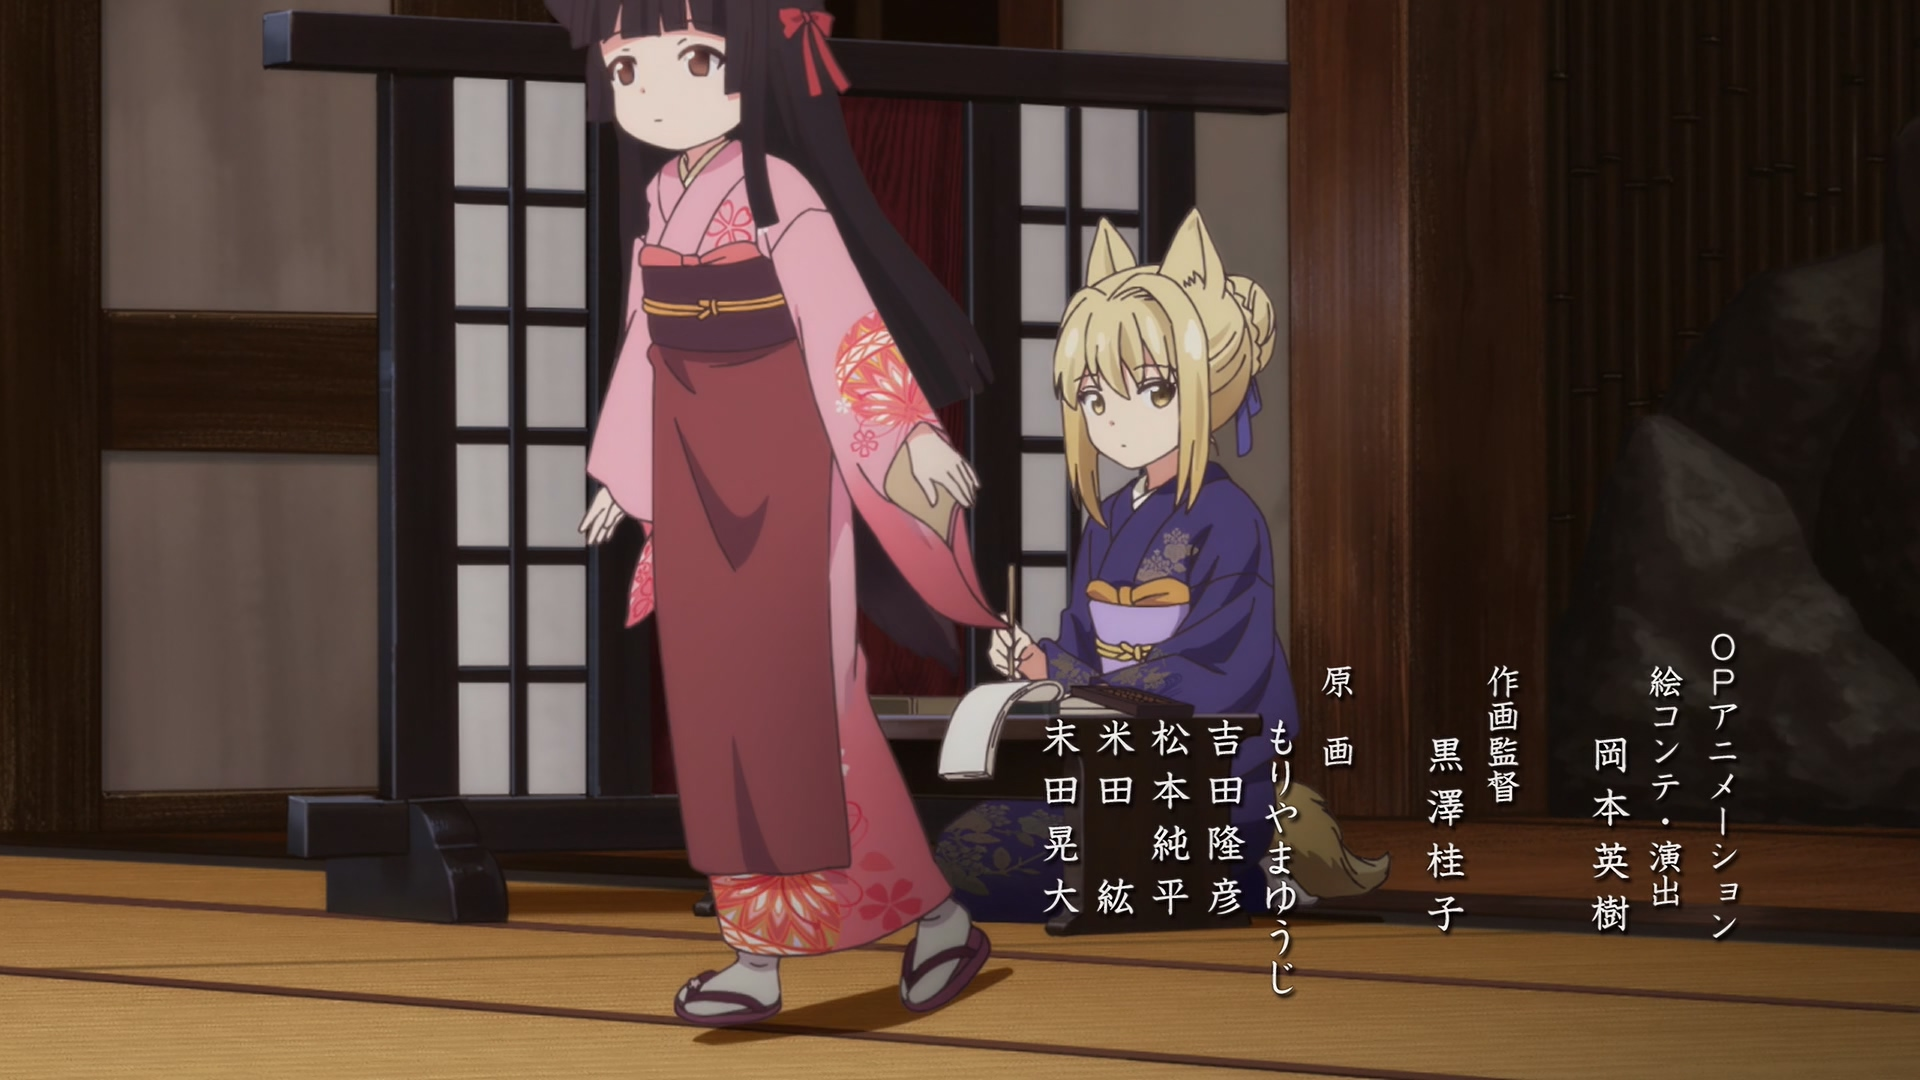桐: (938, 206, 1393, 922)
樱: (545, 1, 990, 1027)
